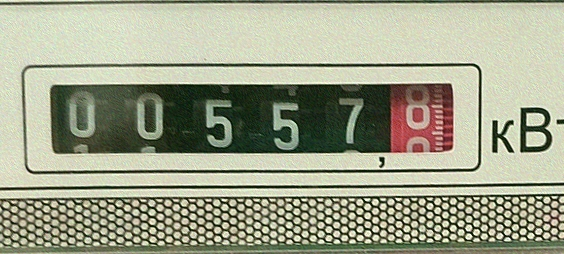0: (60, 86, 97, 143), (128, 90, 164, 143)
5: (263, 95, 302, 155), (197, 95, 233, 152)
7: (329, 93, 363, 149)
8: (400, 84, 429, 134)
screen: (13, 45, 485, 190)
